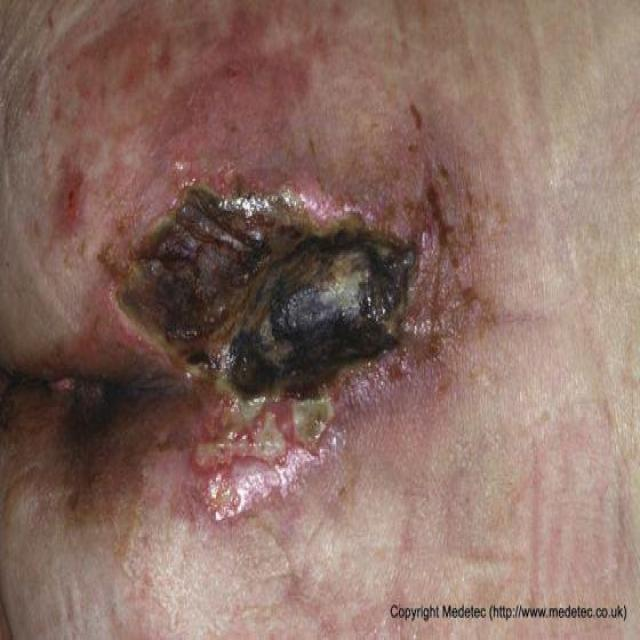Unstageable: (118, 185, 416, 505)
